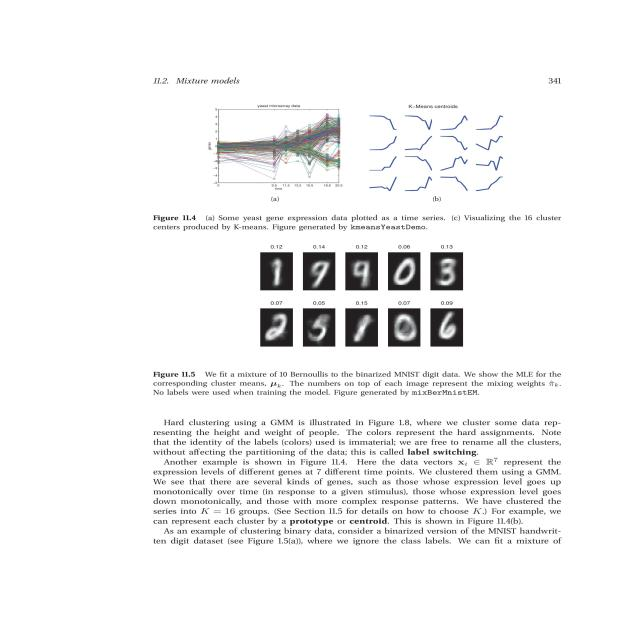diagram: (96, 66, 592, 413)
